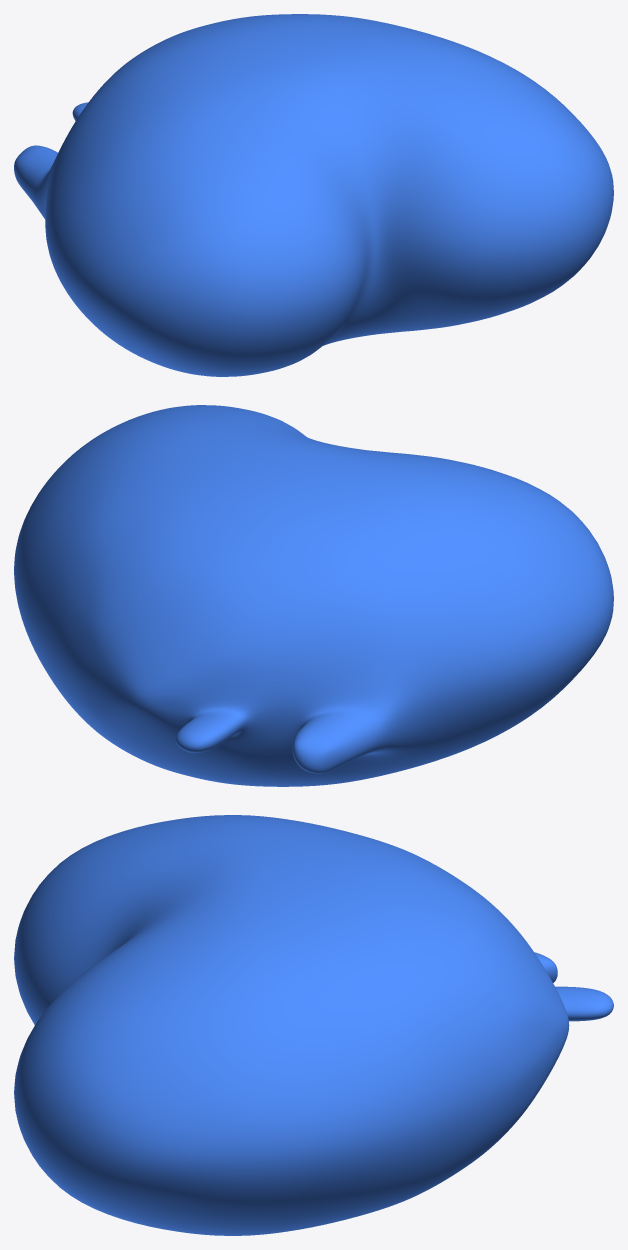
File: Heart.gltf
The picture shows the model from 3 angles, top to bottom: view 1: azimuth 30°, elevation 25°; view 2: azimuth 150°, elevation 25°; view 3: azimuth 270°, elevation 25°; orthographic projection. The views are drawn at different scales.
Visible parts, largest first — view 1: Cube; view 2: Cube; view 3: Cube.
Boxes of the visible parts, x1,y1,x2,y2 form: Cube: (14, 14, 613, 376); Cube: (14, 405, 613, 786); Cube: (14, 815, 613, 1235).
Bounding box in the file's own units: 2.12 × 1.09 × 1.95.
